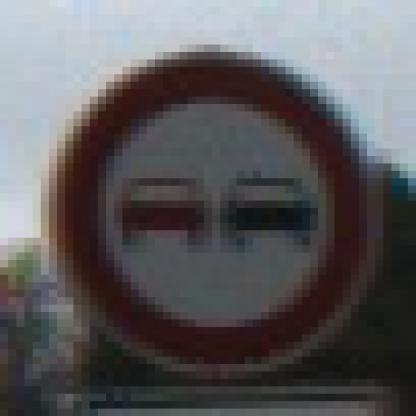No Overtaking: (42, 45, 376, 380)
